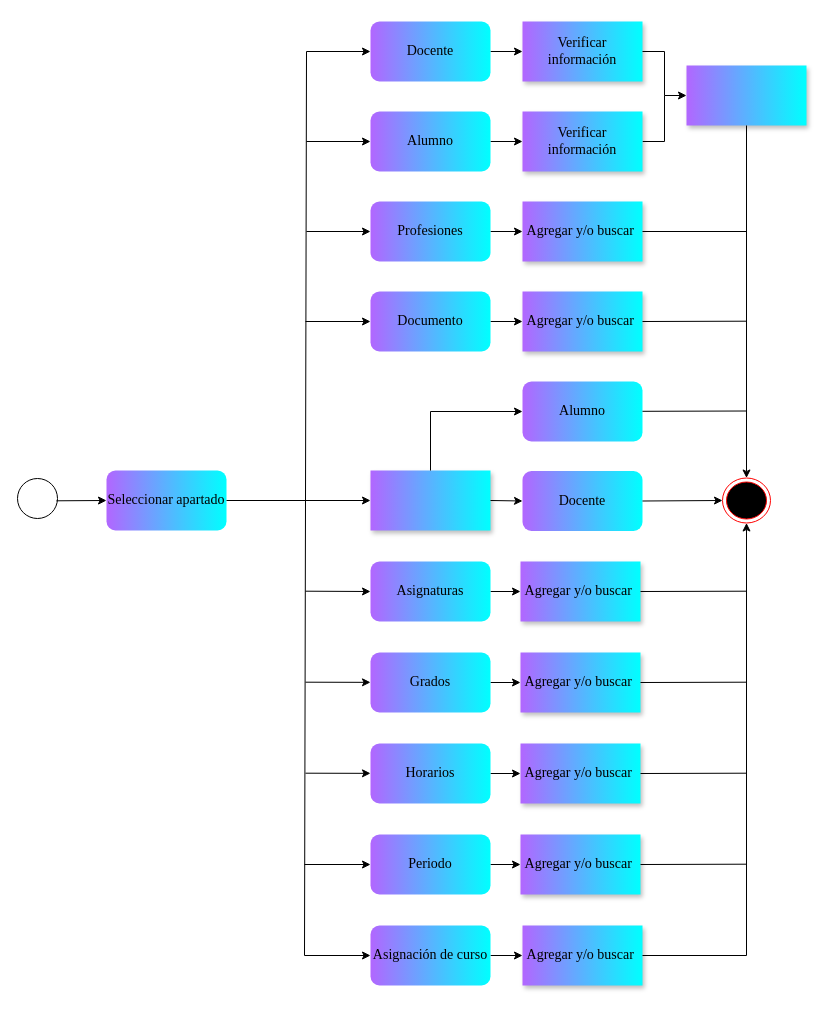
Some shapes in this 830 by 1009 pixel diagram are drawn without their labels. Each missing label, with the centre of its shape:
Activar o desactivar cuenta: point 747,96
Crear usuario: point 431,501
